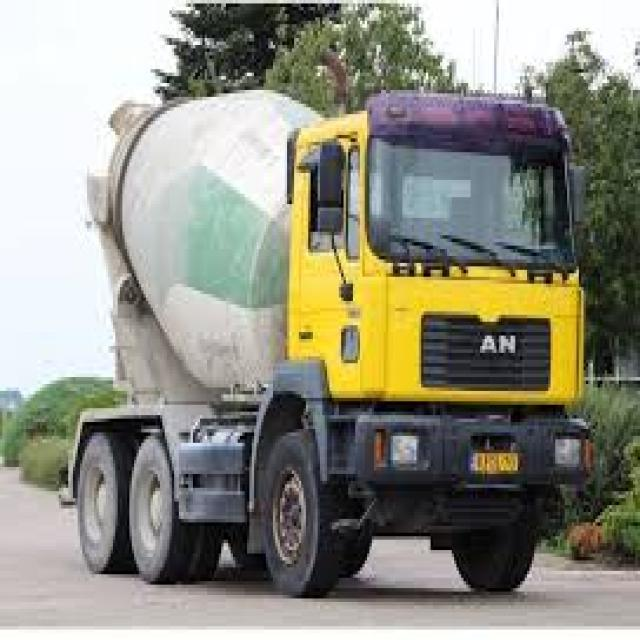Mixer Truck: (56, 85, 596, 600)
